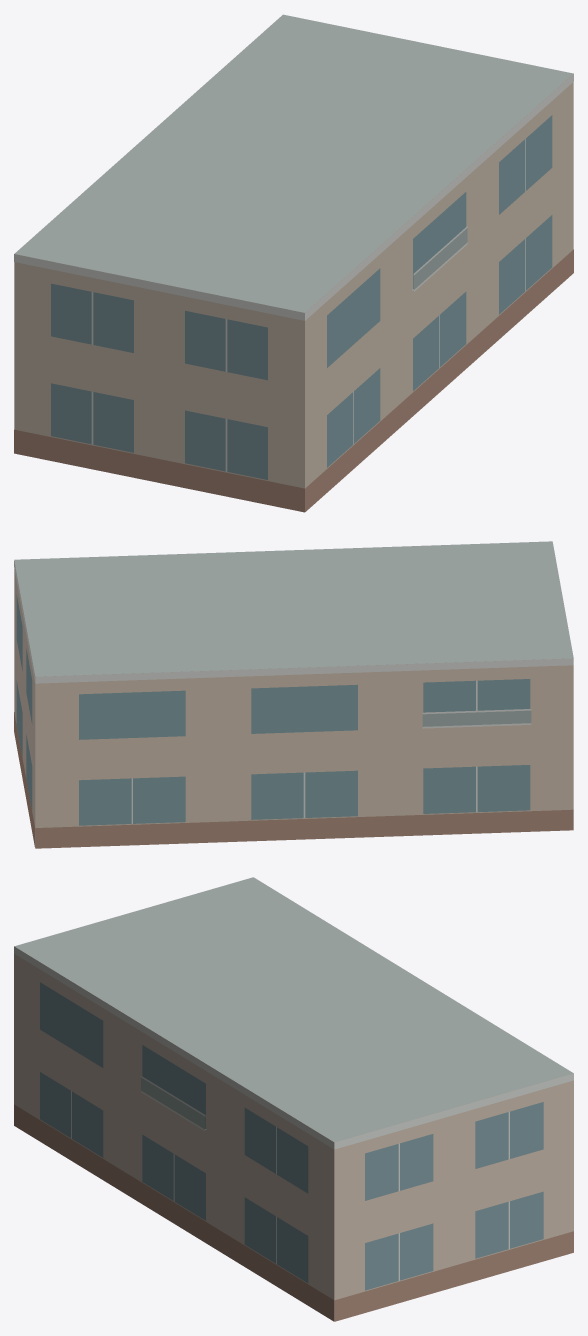
Rendered from survey-upis-32882649.glb.
The picture shows the model from 3 angles, top to bottom: view 1: azimuth 30°, elevation 25°; view 2: azimuth 150°, elevation 25°; view 3: azimuth 270°, elevation 25°; orthographic projection. The views are drawn at different scales.
Parts seen in each view (by area): view 1: survey-upis-32882649.tmp; view 2: survey-upis-32882649.tmp; view 3: survey-upis-32882649.tmp.
Part boxes in pixels (x1=…): survey-upis-32882649.tmp: x1=14, y1=14, x2=573, y2=512; survey-upis-32882649.tmp: x1=14, y1=541, x2=573, y2=848; survey-upis-32882649.tmp: x1=14, y1=877, x2=573, y2=1321.
Bounding box in the file's own units: 19.36 × 6.1 × 17.26.
